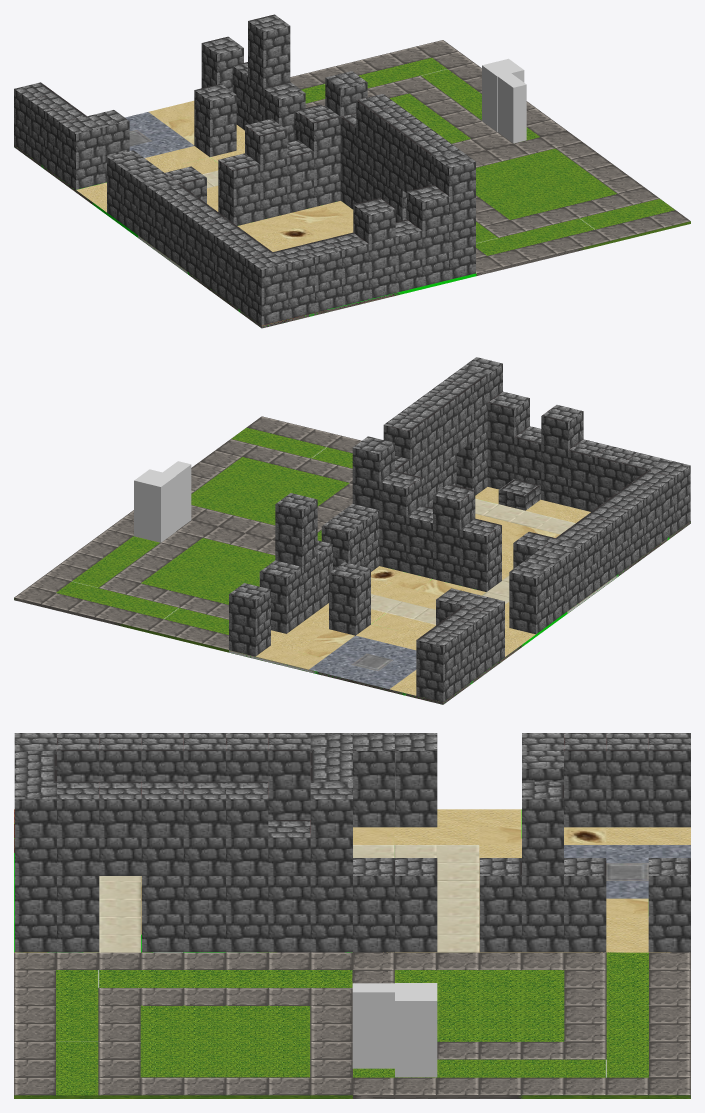
Rendered from Old_FirstEnviroment.fbx.
The picture shows the model from 3 angles, top to bottom: view 1: azimuth 30°, elevation 25°; view 2: azimuth 150°, elevation 25°; view 3: azimuth 270°, elevation 25°; orthographic projection. The views are drawn at different scales.
Visible parts, largest first — view 1: Floor4, Floor3, Floor2, Cube, Cube.047, Cube.001, Cube.050, Cube.053, Cube.011, Cube.010, Cube.037, Cube.026 (+42 smaller); view 2: Floor3, Floor4, Floor2, Cube, Cube.047, Cube.011, Cube.048, Cube.054, Cube.055, Cube.053, Cube.041, Cube.034 (+41 smaller); view 3: Floor4, Floor3, Floor2, Cube.035, Cube.040, Cube.010, Cube.029, Cube.030, Cube.031, Cube.032, Cube.034, Cube.049 (+35 smaller).
Part boxes in pixels (x1,y1,x2,y2): Floor4: [467, 130, 690, 275]; Floor3: [290, 40, 566, 154]; Floor2: [14, 100, 244, 237]; Cube: [138, 201, 476, 328]; Cube.047: [248, 14, 290, 88]; Cube.001: [246, 252, 288, 325]; Cube.050: [60, 116, 102, 189]; Cube.053: [194, 83, 236, 156]; Cube.011: [218, 153, 260, 225]; Cube.010: [433, 150, 475, 223]; Cube.037: [407, 185, 448, 258]; Cube.026: [300, 239, 341, 312]; Floor3: [14, 510, 275, 652]; Floor4: [191, 416, 361, 541]; Floor2: [229, 566, 567, 704]; Cube: [475, 487, 690, 613]; Cube.047: [275, 493, 317, 566]; Cube.011: [459, 518, 501, 591]; Cube.048: [416, 629, 458, 702]; Cube.054: [134, 469, 176, 542]; Cube.055: [509, 561, 551, 634]; Cube.053: [329, 562, 370, 635]; Cube.041: [229, 583, 270, 656]; Cube.034: [352, 436, 394, 509]; Floor4: [14, 952, 352, 1098]; Floor3: [352, 952, 690, 1098]; Floor2: [353, 809, 690, 952]; Cube.035: [606, 733, 648, 827]; Cube.040: [99, 781, 141, 875]; Cube.010: [14, 781, 56, 875]; Cube.029: [57, 781, 99, 875]; Cube.030: [141, 781, 183, 875]; Cube.031: [183, 781, 225, 875]; Cube.032: [226, 781, 268, 875]; Cube.034: [310, 781, 352, 875]; Cube.049: [564, 733, 606, 827].
Bounding box in the file's own units: 1602 × 408 × 1602.
Materials: 57 (57 with a texture image).
